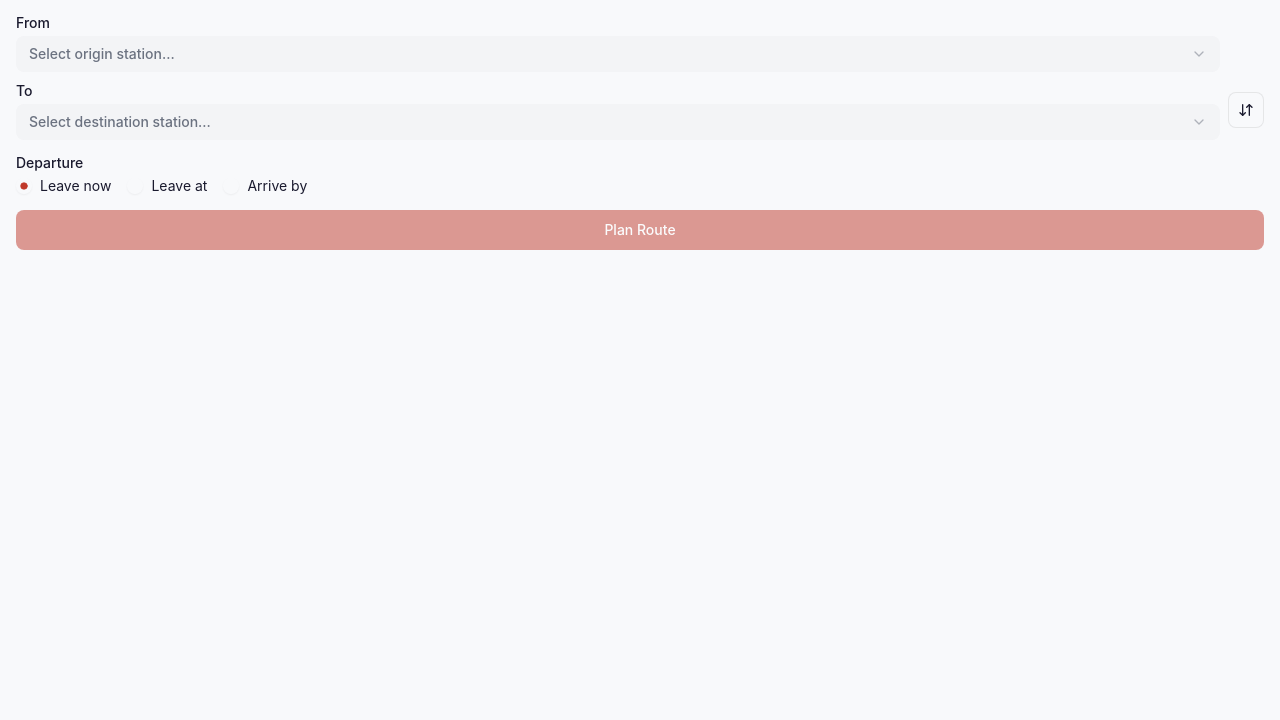
Test: RouteInputForm current location › explains the failure and keeps the form usable when permission is denied
This screenshot has width=1280, height=720.
Click the dropdown labelled "Select origin station…".
click(102, 54)  # box left=16, top=36, right=1220, bottom=72
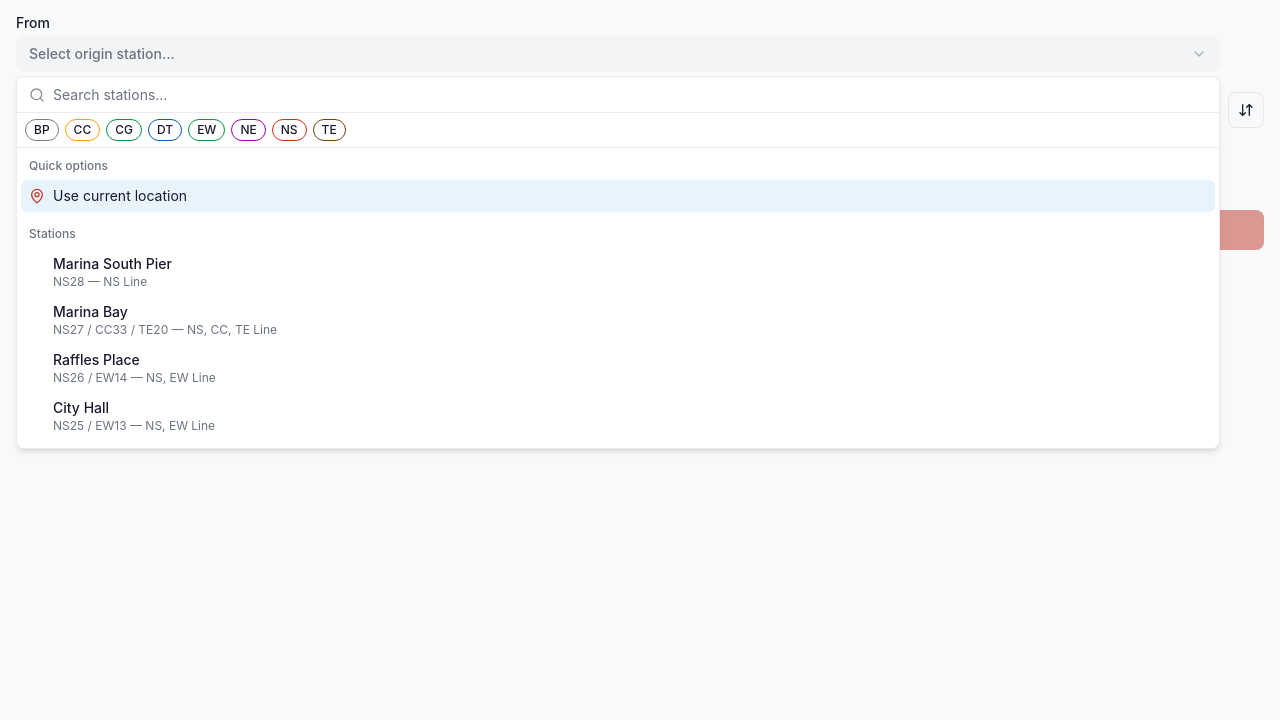
Click the option "Use current location".
click(120, 196)  # box left=21, top=180, right=1215, bottom=212
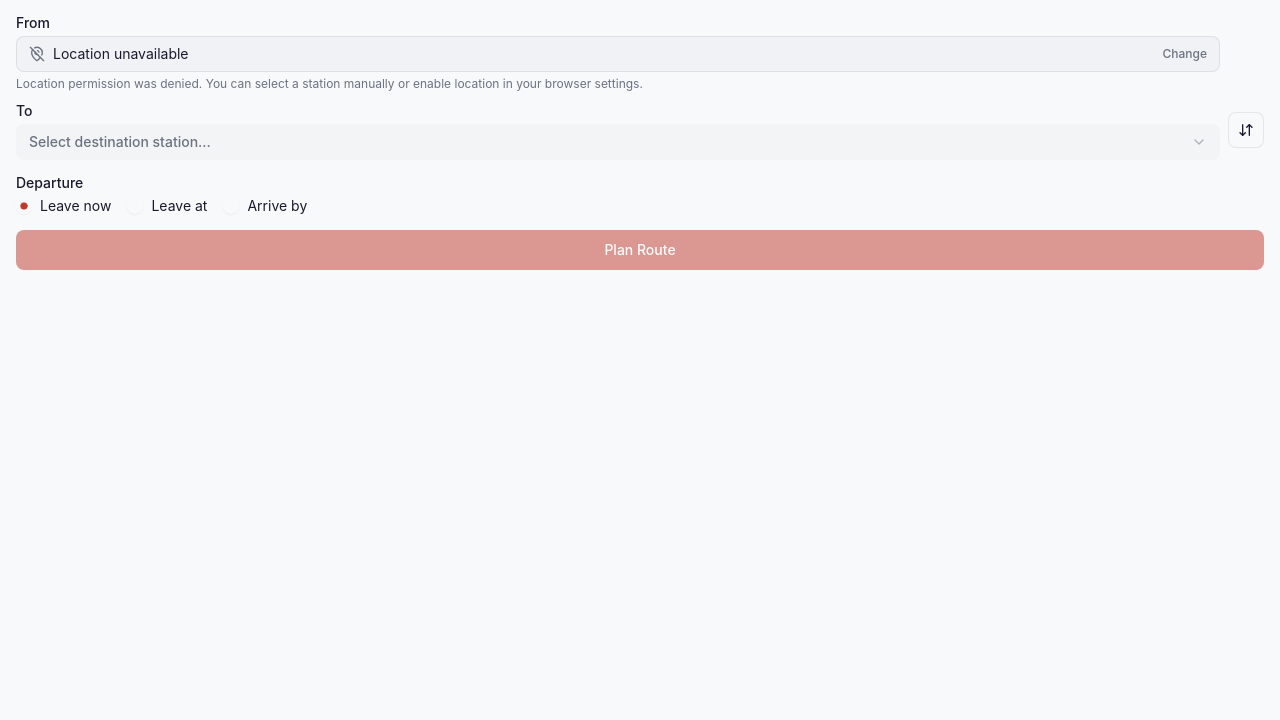
Check: the message shows "permission was denied", box left=16, top=76, right=643, bottom=91
Click the button "Change".
click(1185, 54)  # box left=1162, top=46, right=1207, bottom=62
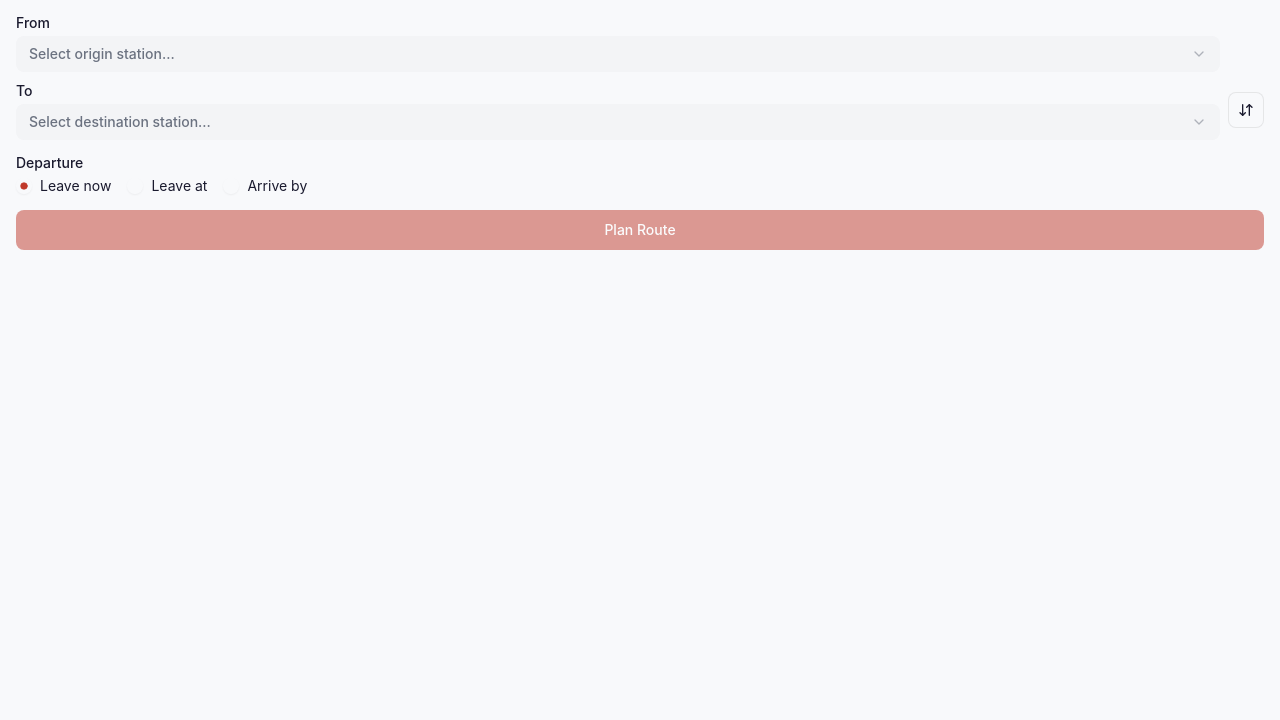
Check: the dropdown labelled "Select origin station…" is shown, box left=16, top=36, right=1220, bottom=72
